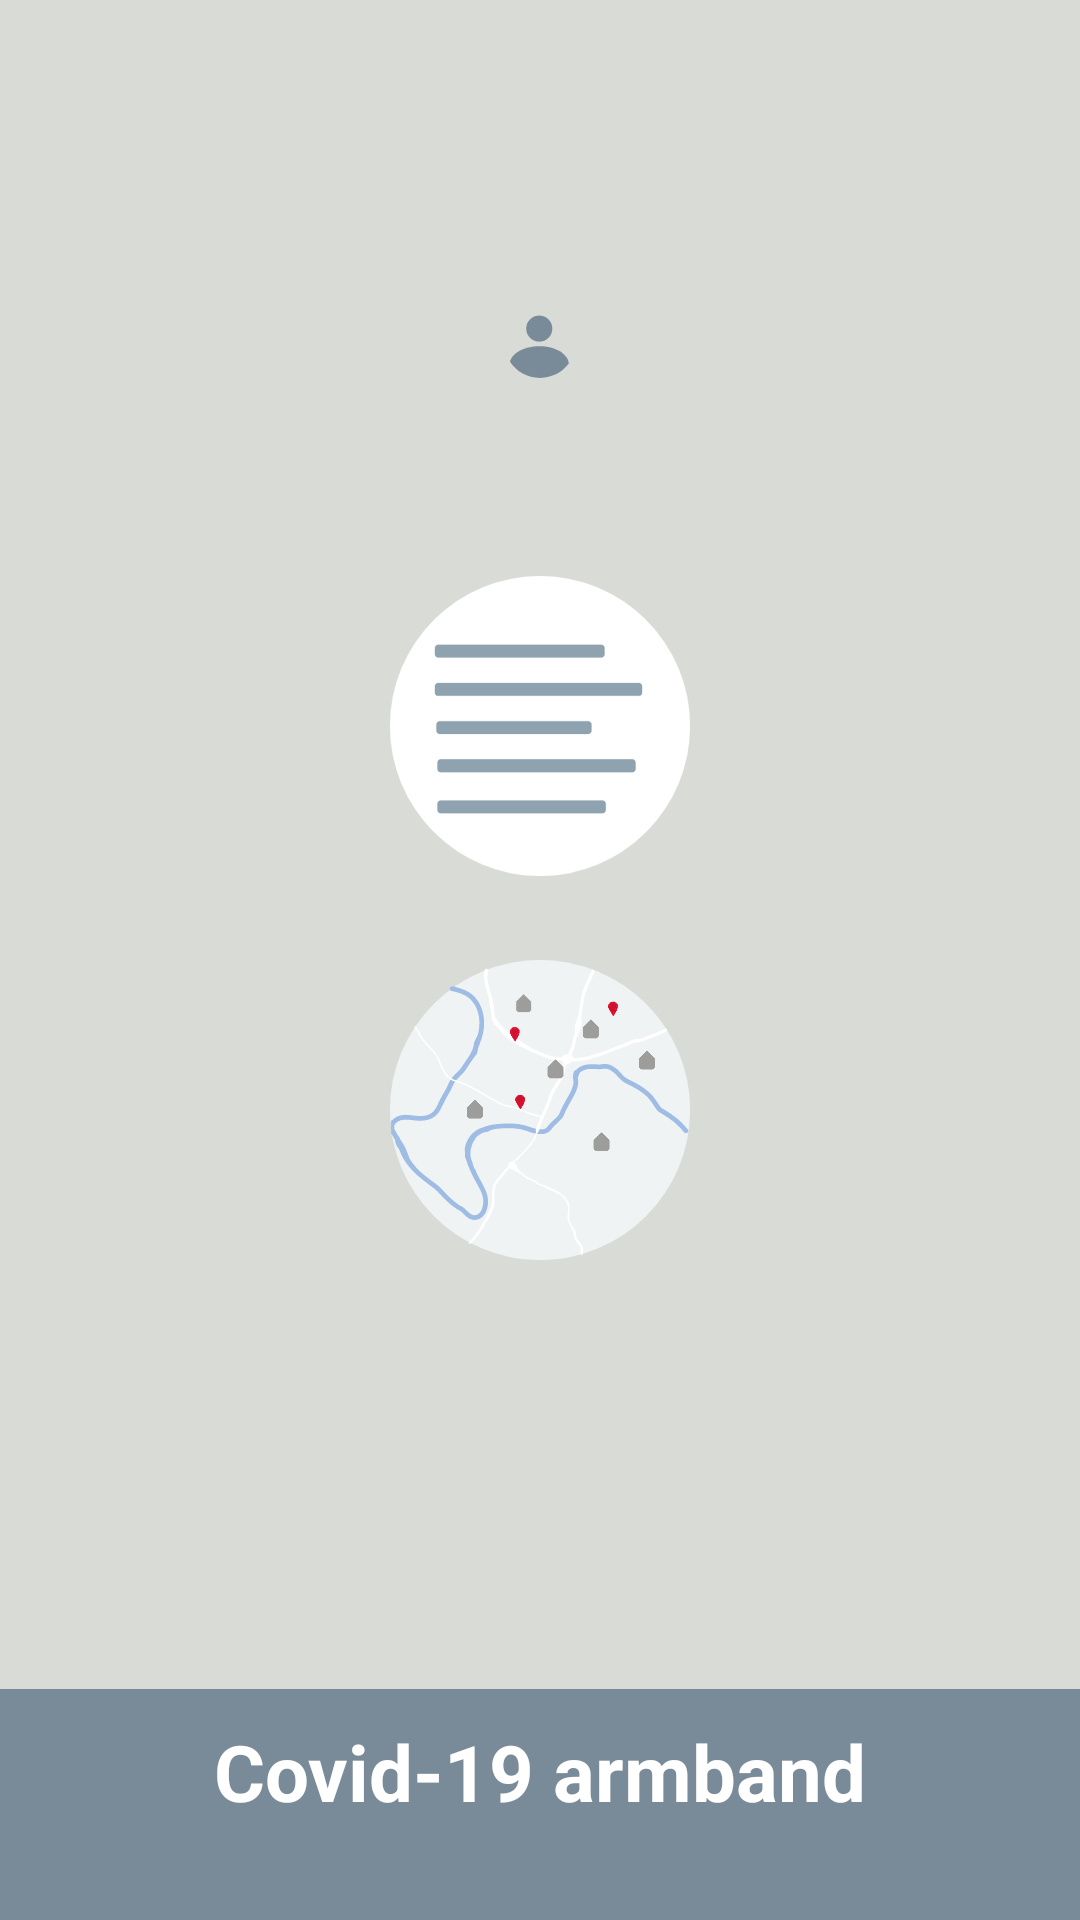

Icon click points for this 1080x1920 phone screenshot, format point (x, y):
account: point (539, 346)
karta: point (540, 1110)
list: point (540, 726)
